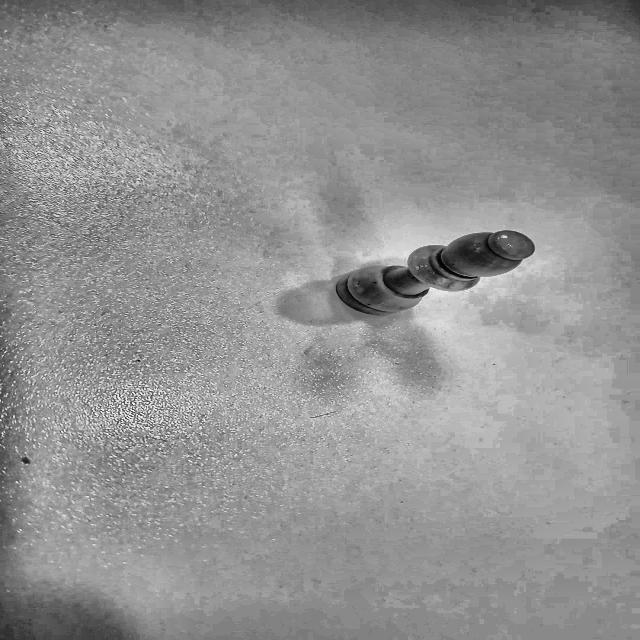white-bishop: (335, 231, 533, 316)
